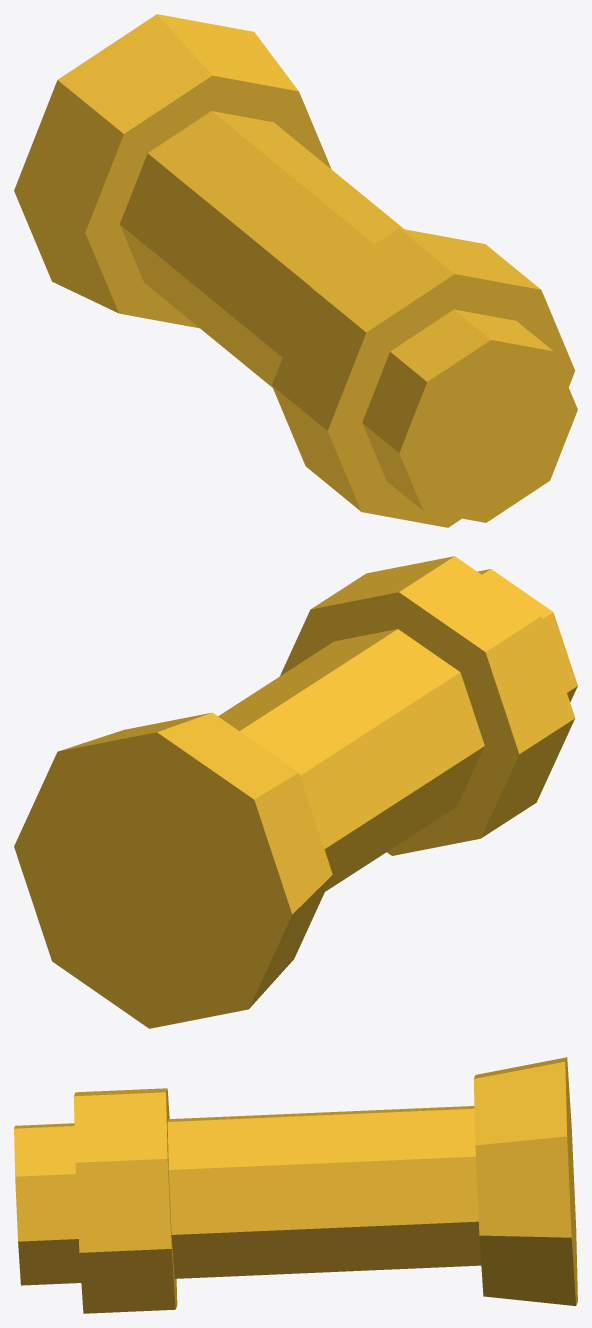
File: Asset_KeyFragment1.fbx
The picture shows the model from 3 angles, top to bottom: view 1: azimuth 30°, elevation 25°; view 2: azimuth 150°, elevation 25°; view 3: azimuth 270°, elevation 25°; orthographic projection. The views are drawn at different scales.
Parts seen in each view (by area): view 1: Asset_KeyFragment1; view 2: Asset_KeyFragment1; view 3: Asset_KeyFragment1.
Part boxes in pixels (x1=…): Asset_KeyFragment1: x1=14, y1=14, x2=577, y2=527; Asset_KeyFragment1: x1=14, y1=556, x2=577, y2=1028; Asset_KeyFragment1: x1=14, y1=1057, x2=577, y2=1313.
Size of the model in its own units: 12.48 by 12.89 by 26.55.
